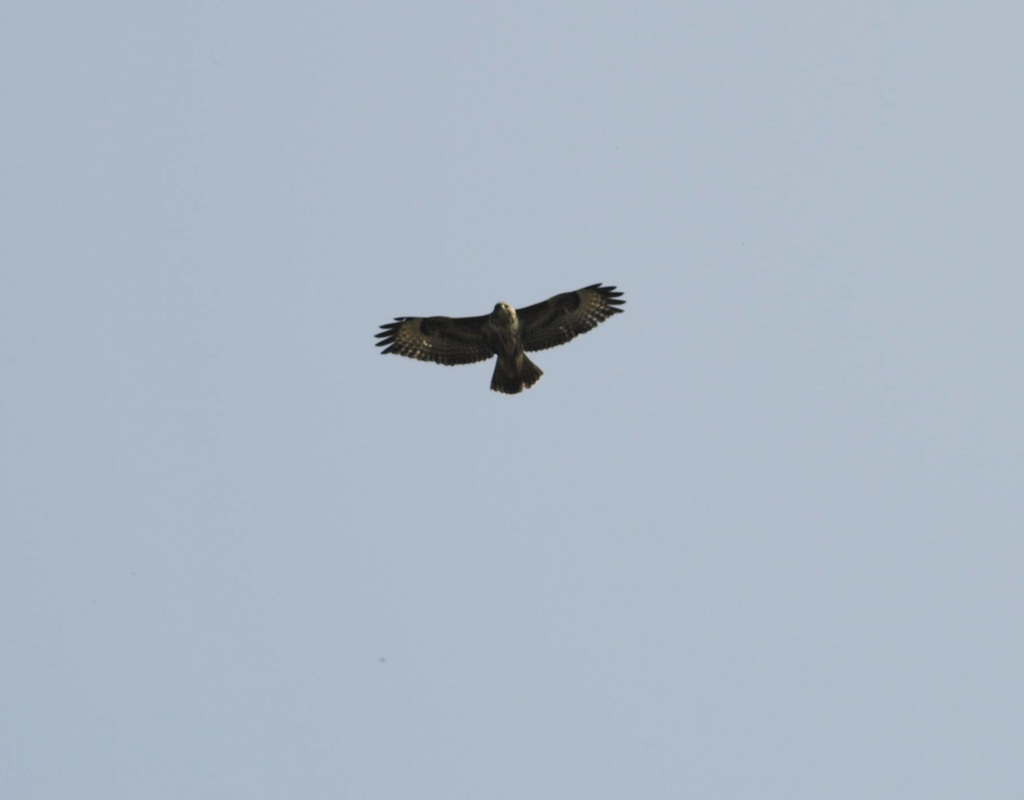person: (371, 282, 629, 395)
